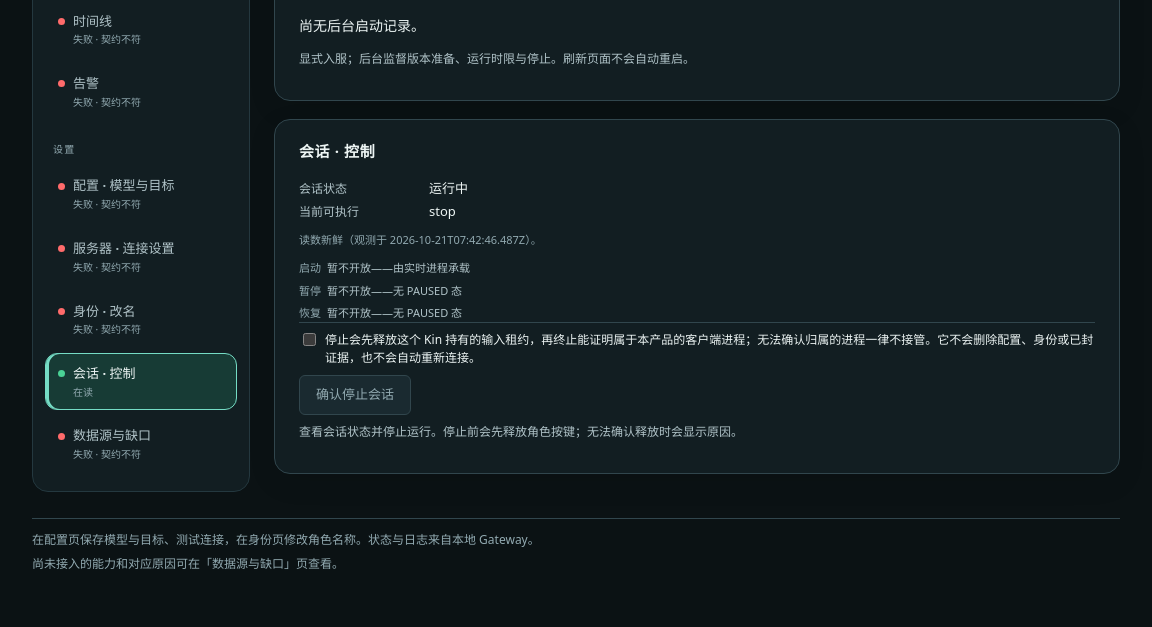
Test case: 会话面板：停止只在会话非空闲且显式确认时可用 › 服务器具名拒止原样送到面板，不塌成通用成功
The image size is (1152, 627).
(page scrolled)
Expected: the text "运行中" is shown, [429,179,468,197]
Click the checkbox.
click(310, 339)  # box [303,333,316,346]
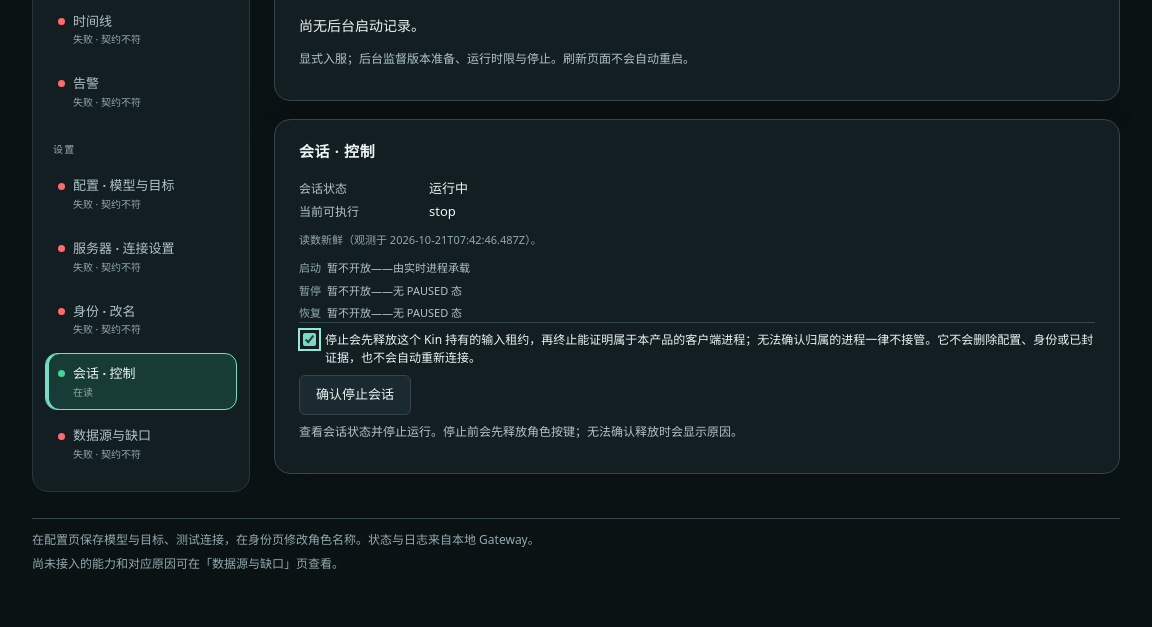
Click the button with test id "session-stop-submit".
click(355, 395)  # box [299,375,411,415]
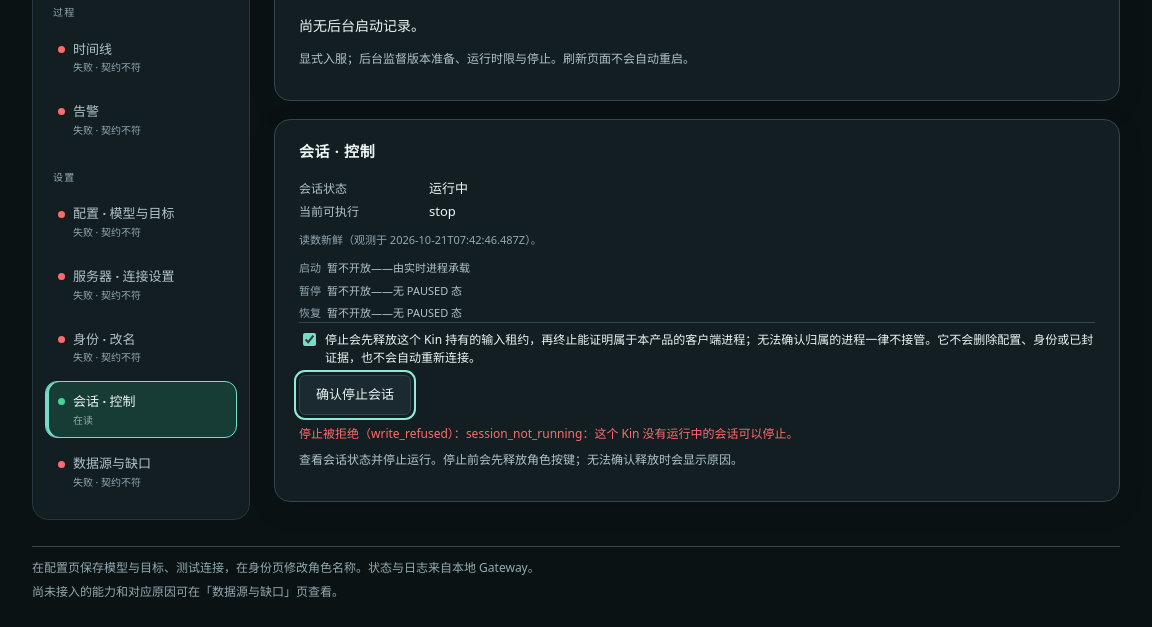
Expected: the text with test id "session-refusal" shows "write_refused", [371,425,448,442]
Expected: the text with test id "session-refusal" shows "session_not_running", [466,425,799,442]
